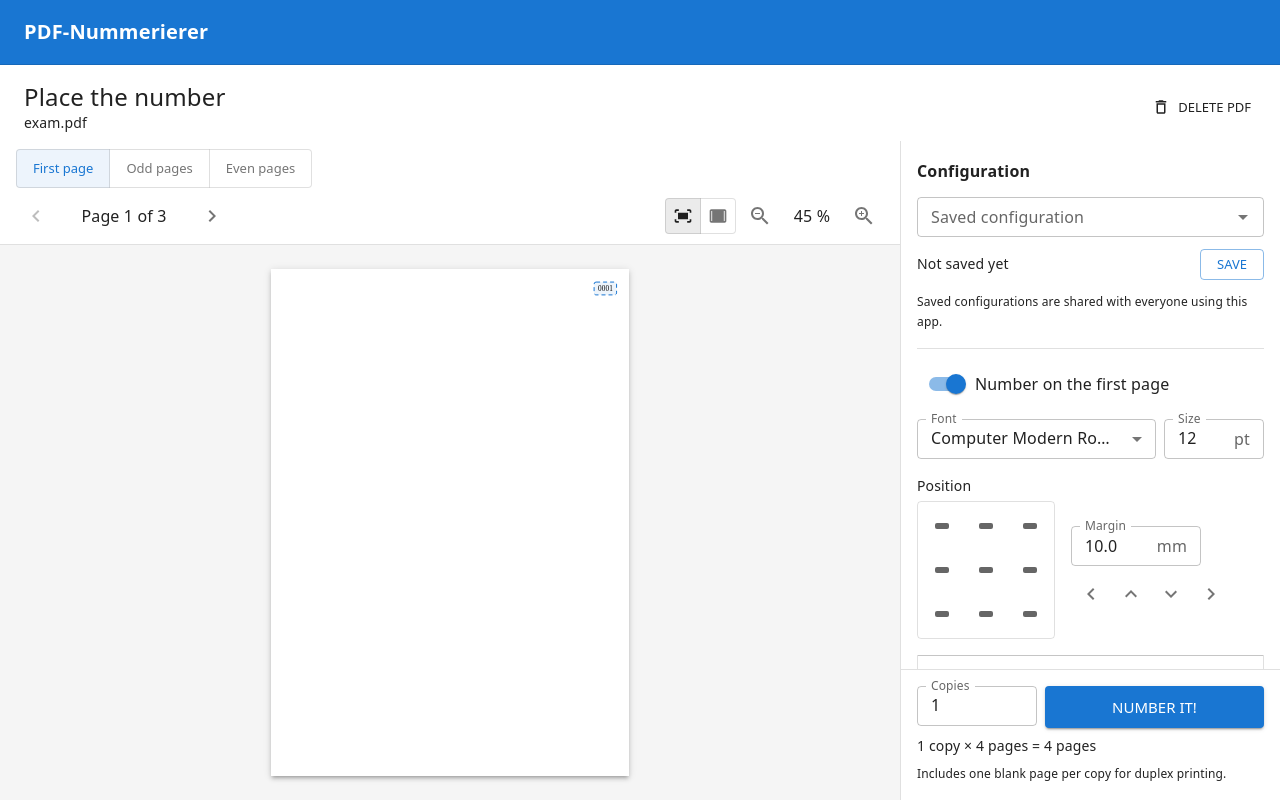
Scenario: saved configurations › saves changes to a loaded configuration as its next version
Expected: the text "exam.pdf" is shown, [24, 113, 87, 132]
Click the dropdown labelled "Saved configuration": (1074, 217) [923, 203, 1225, 231]
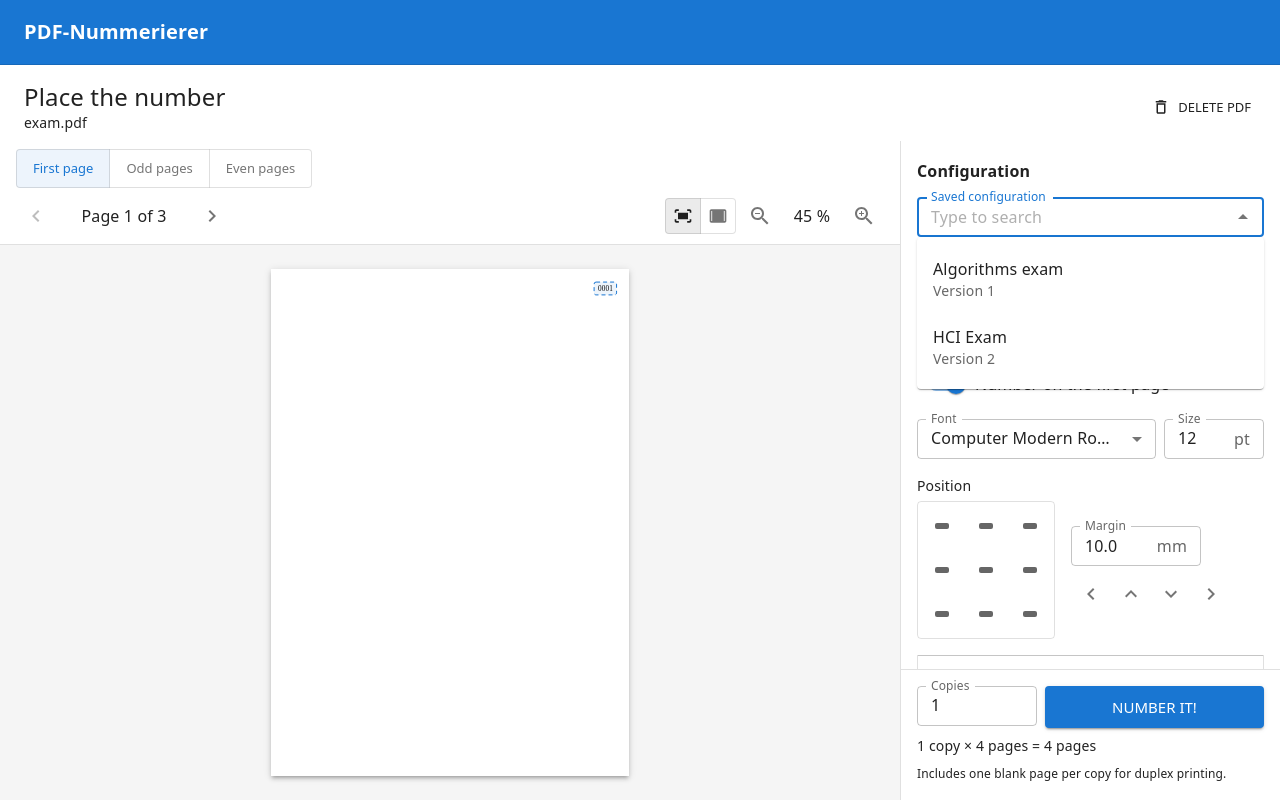
Click the option "HCI Exam Version 2": (970, 347) [933, 326, 1007, 368]
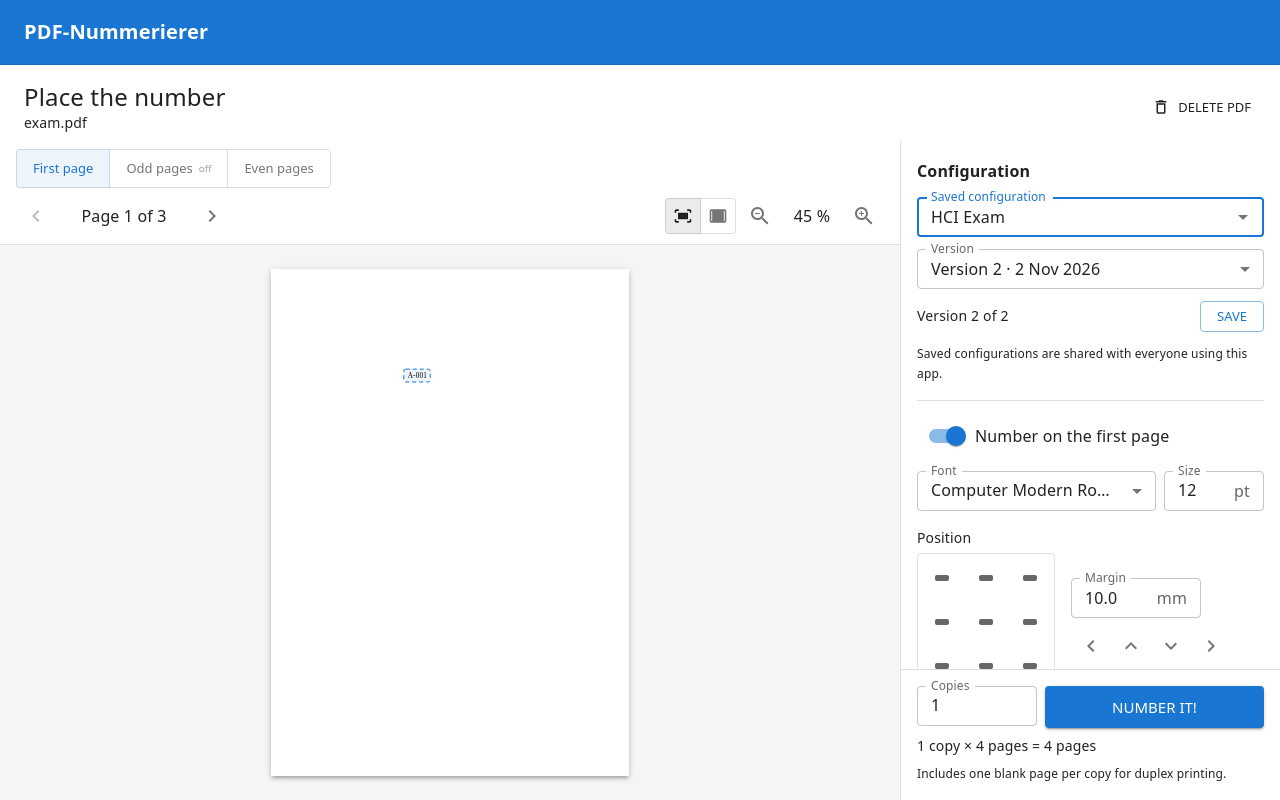
Click the button named "Move right 1 mm": (1211, 646) [1191, 626, 1231, 666]
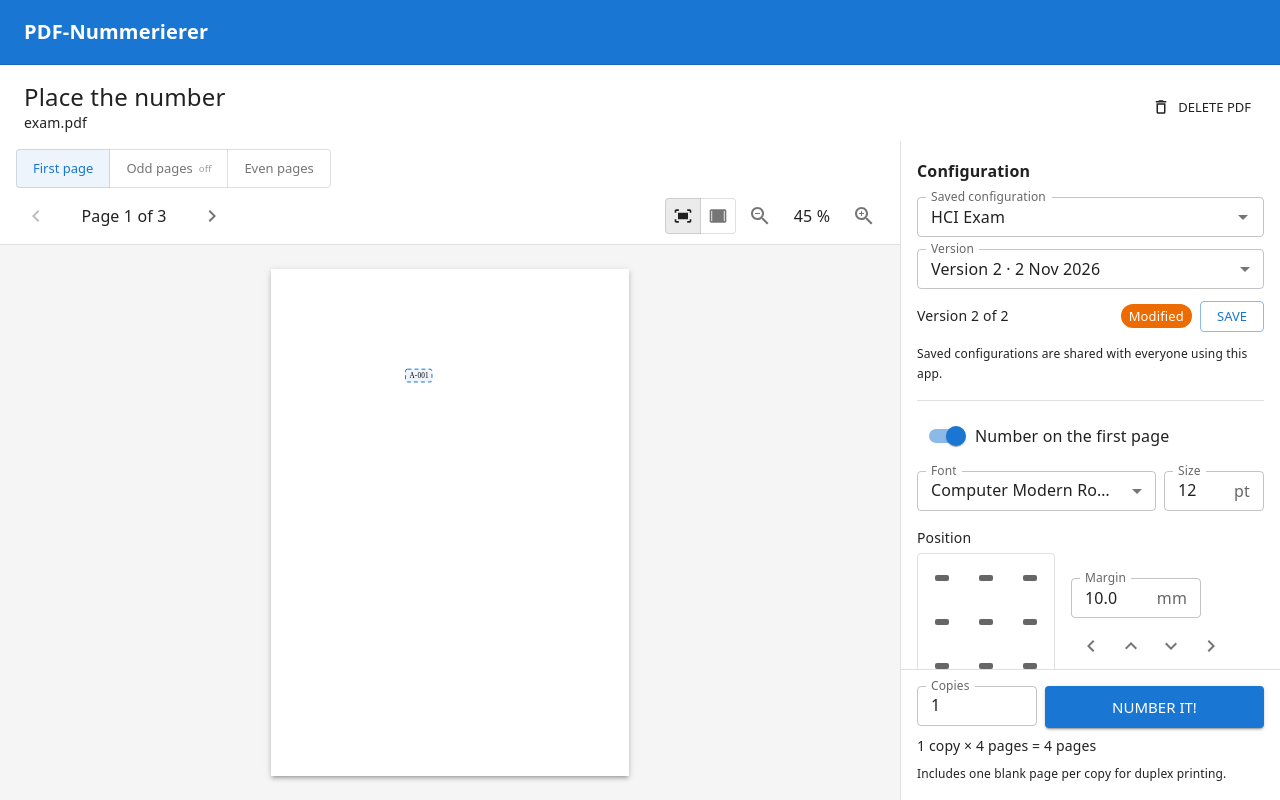
Click the button "Save": (1232, 316) [1200, 301, 1264, 332]
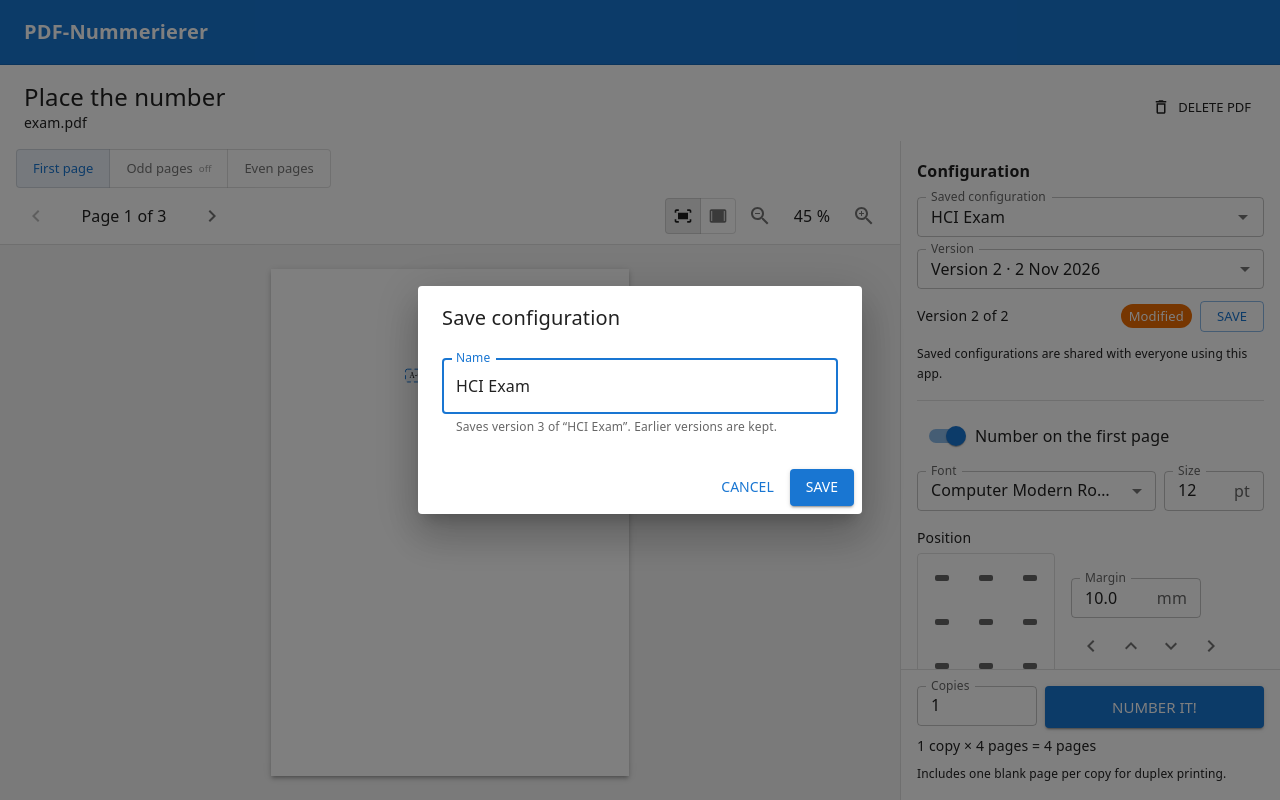
Expected: the field labelled "Name" holds "HCI Exam", [442, 358, 838, 414]
Click the button "Save": (822, 487) [790, 469, 854, 506]
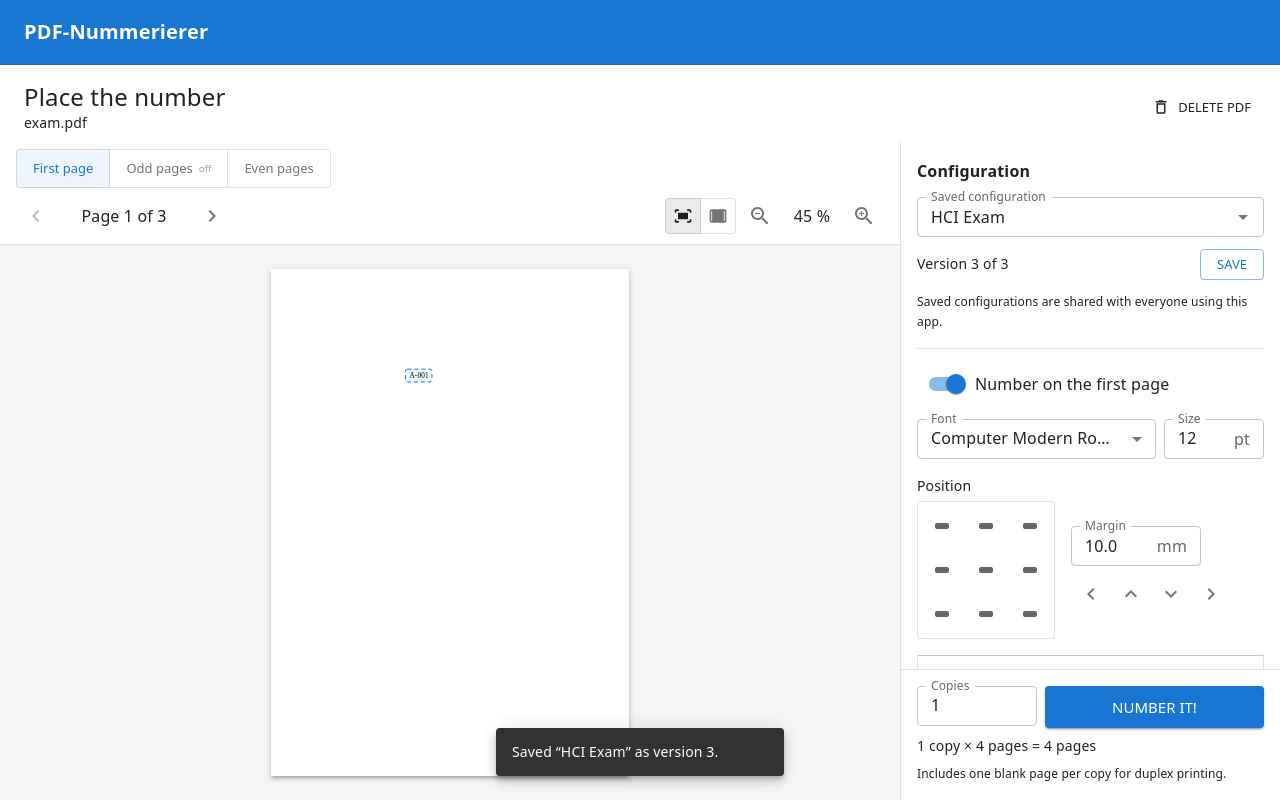
Expected: the text "Modified" is gone
